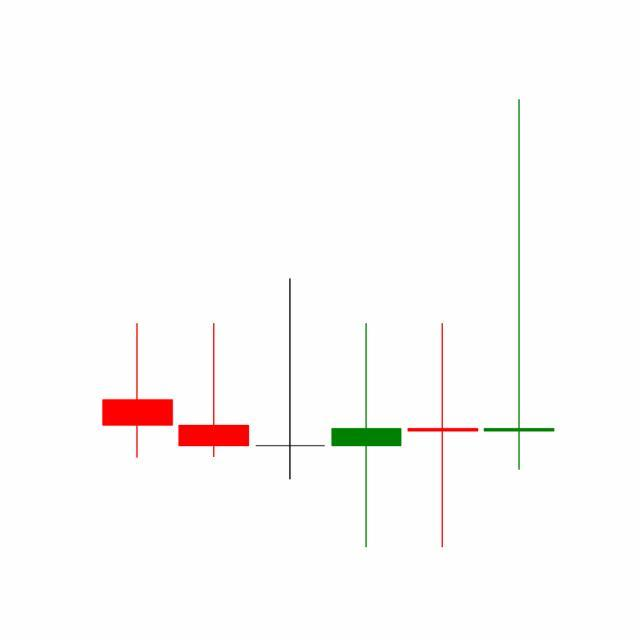Spinning Top: (404, 320, 482, 550)
